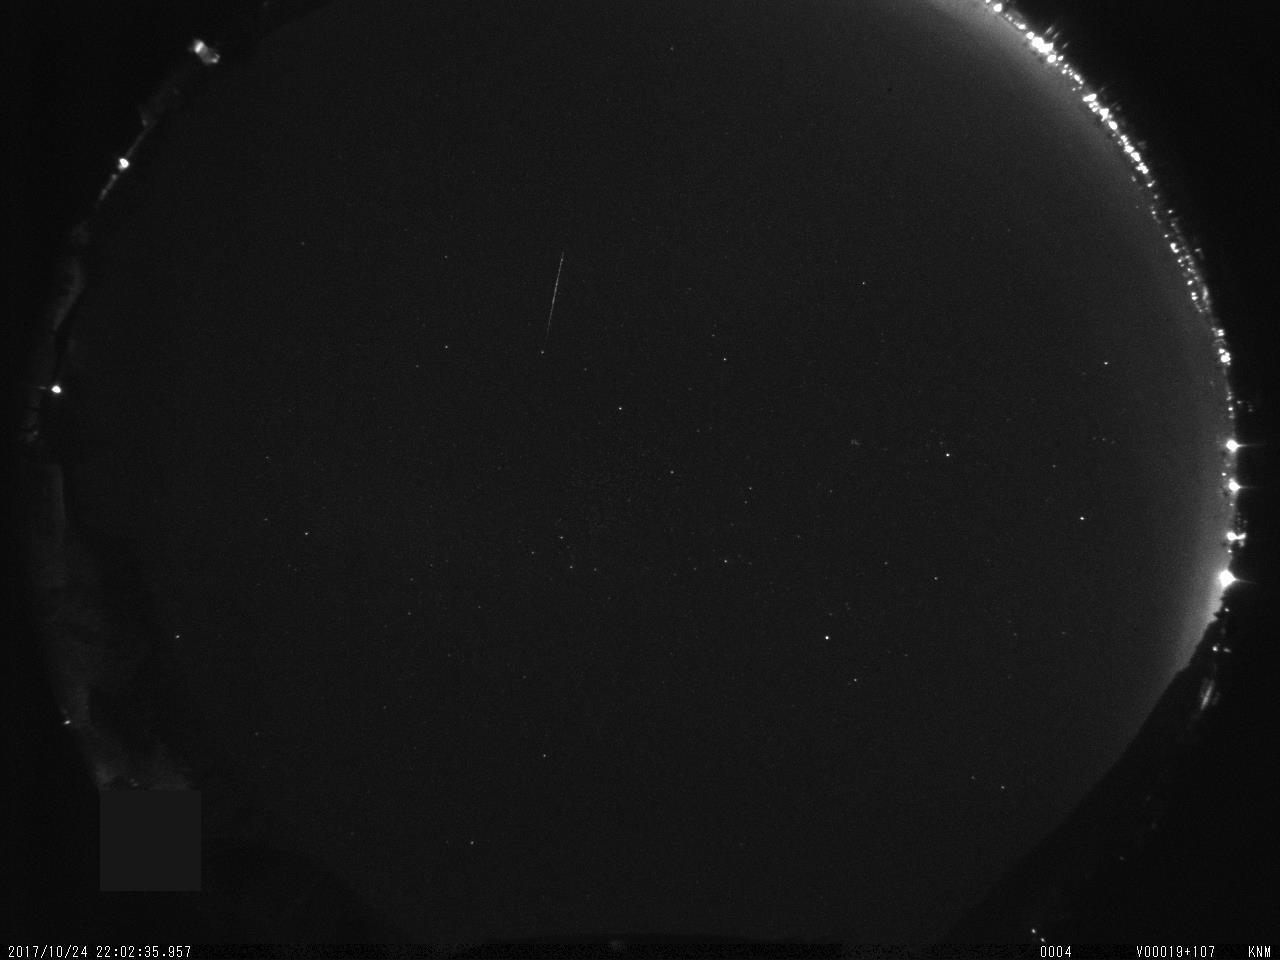Meteor: (540, 245, 569, 340)
